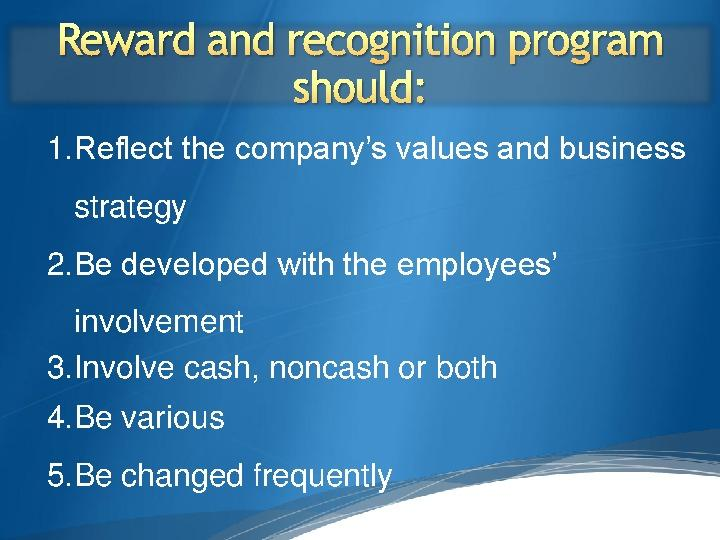paragraph: (36, 122, 708, 506)
title: (48, 11, 687, 111)
